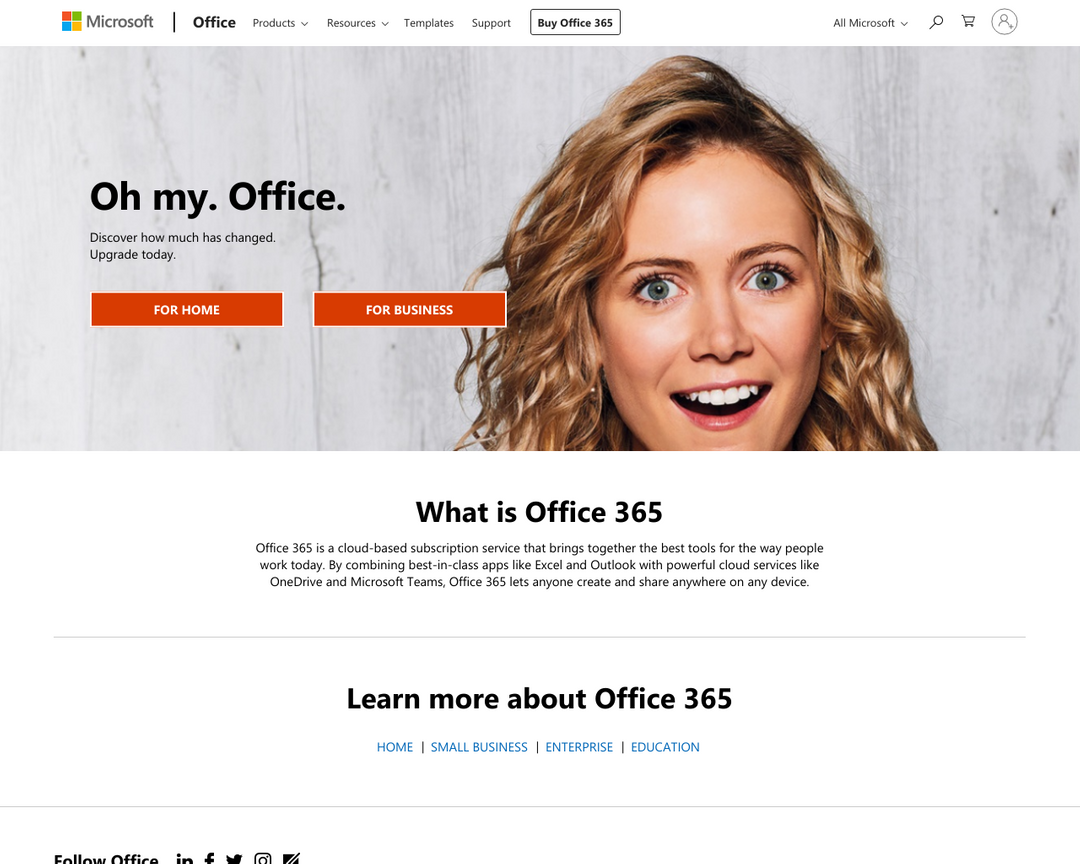Microsoft: (57, 8, 159, 34)
